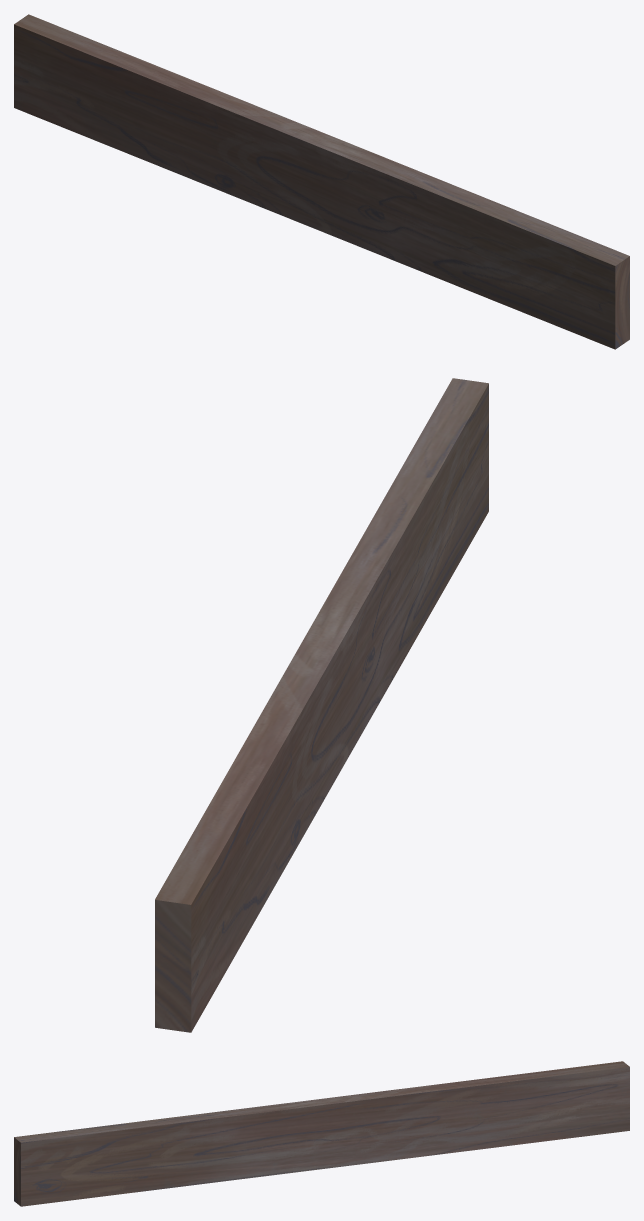
The model's file is long_board_037.fbx.
The picture shows the model from 3 angles, top to bottom: view 1: azimuth 30°, elevation 25°; view 2: azimuth 150°, elevation 25°; view 3: azimuth 270°, elevation 25°; orthographic projection. The views are drawn at different scales.
Visible parts, largest first — view 1: long board.037; view 2: long board.037; view 3: long board.037.
Boxes of the visible parts, x1,y1,x2,y2 form: long board.037: (14,14,629,349); long board.037: (155,378,488,1032); long board.037: (14,1061,629,1206).
Bounding box in the file's own units: 28.31 × 10.41 × 88.71.
